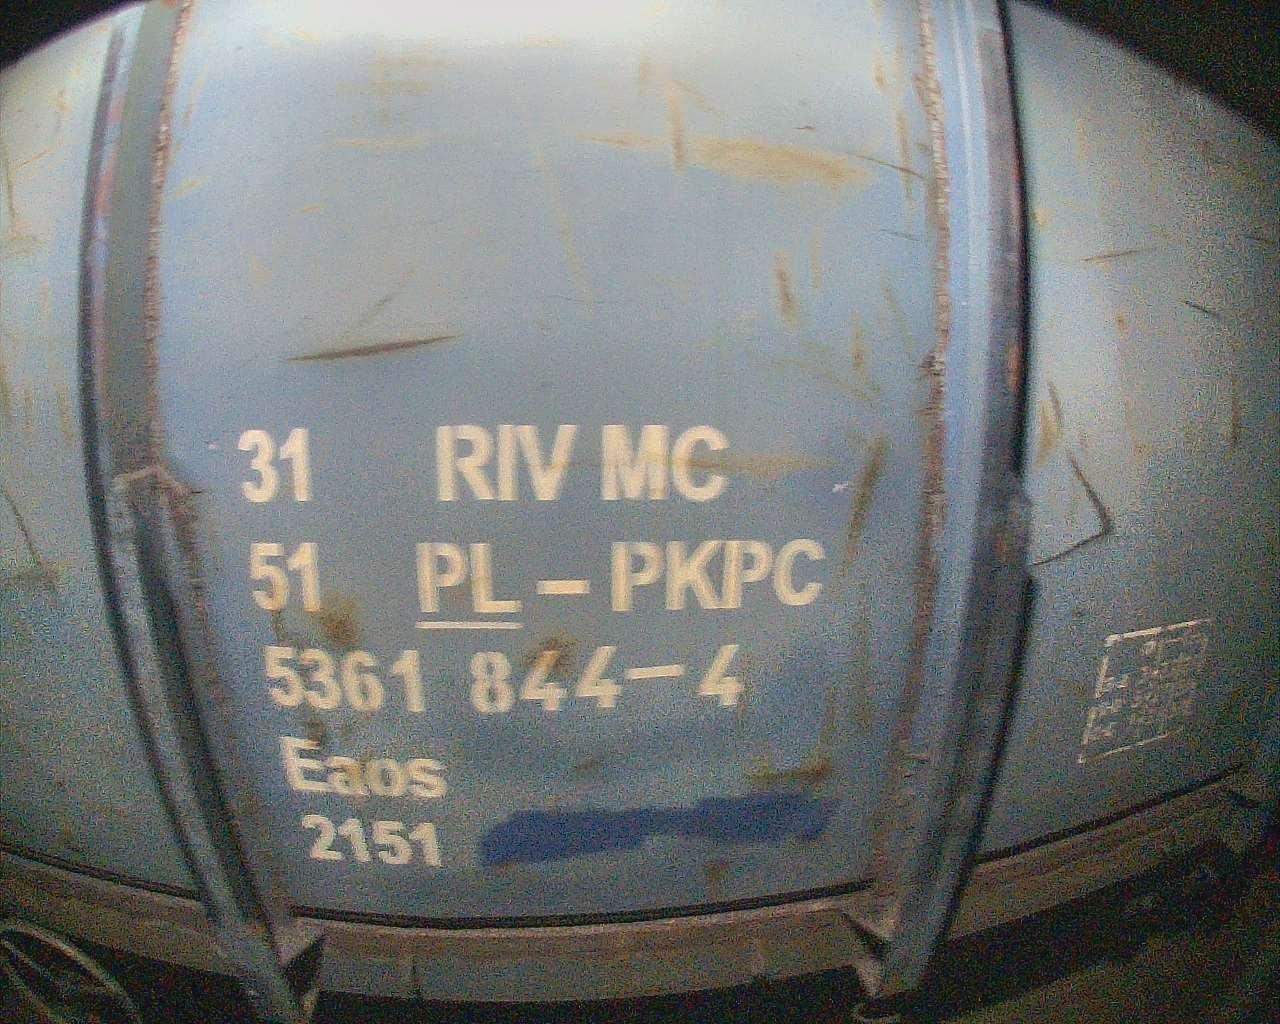UIC: (229, 419, 833, 872)
